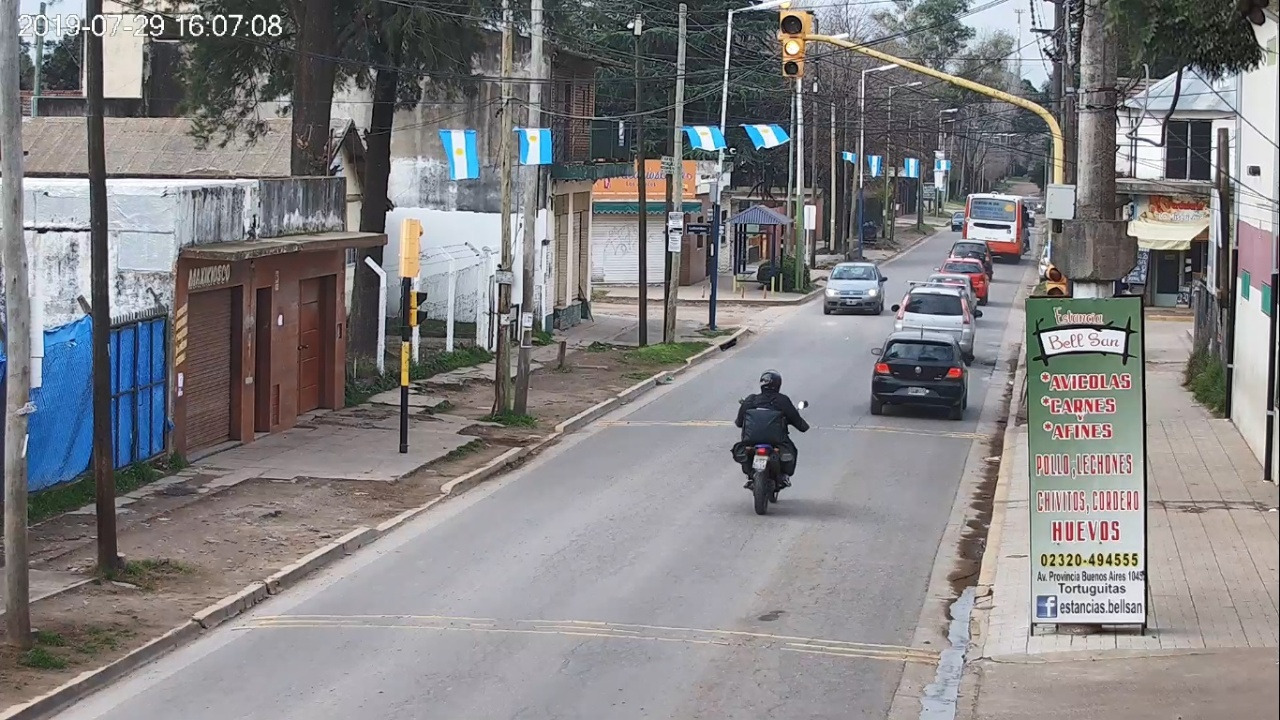car: (871, 331, 976, 419)
motorcycle: (731, 399, 809, 515)
